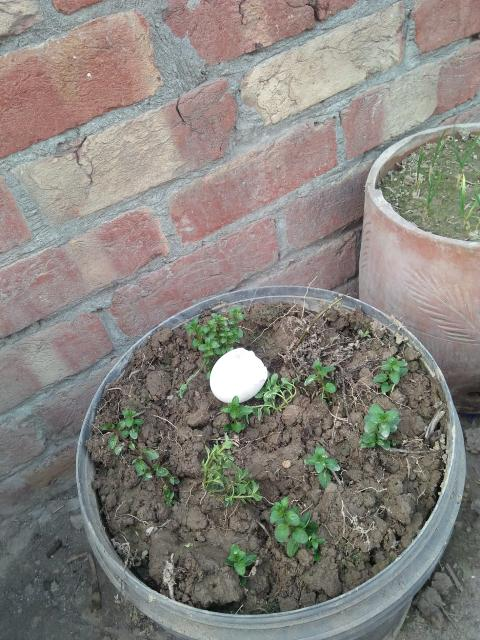Roto: (208, 347, 268, 404)
